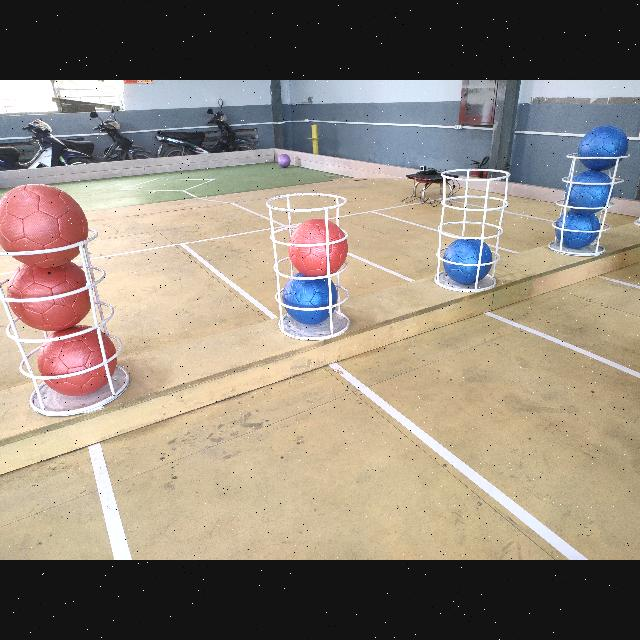B: (284, 272, 338, 326), (443, 235, 493, 282), (563, 170, 609, 216), (579, 126, 629, 168), (556, 207, 598, 249)
R: (0, 182, 90, 266), (5, 260, 96, 330), (38, 327, 116, 395), (291, 220, 347, 276)
